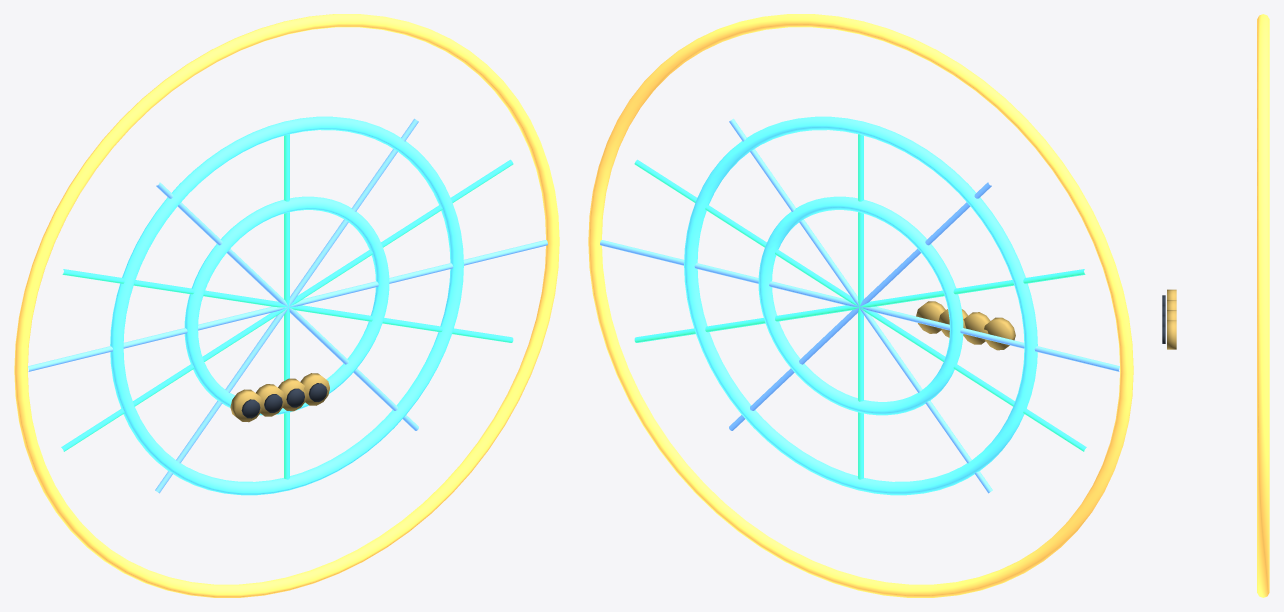
The model's file is 47_L87_RotorImbalanceVectorDisplay.glb.
3 views of the same model, side by side, from view 1: azimuth 30°, elevation 25°; view 2: azimuth 150°, elevation 25°; view 3: azimuth 270°, elevation 25° (orthographic). The views are drawn at different scales.
Visible parts, largest first — view 1: L87_RotorImbalanceVectorDispl_Part_0001, L87_RotorImbalanceVectorDispl_Part_0000, L87_RotorImbalanceVectorDispl_Part_0002, L87_RotorImbalanceVectorDispl_Part_0003; view 2: L87_RotorImbalanceVectorDispl_Part_0001, L87_RotorImbalanceVectorDispl_Part_0000, L87_RotorImbalanceVectorDispl_Part_0003, L87_RotorImbalanceVectorDispl_Part_0002; view 3: L87_RotorImbalanceVectorDispl_Part_0001, L87_RotorImbalanceVectorDispl_Part_0010.
Boxes of the visible parts, <box> form: L87_RotorImbalanceVectorDispl_Part_0001: <box>14,14,559,597</box>; L87_RotorImbalanceVectorDispl_Part_0000: <box>110,116,463,495</box>; L87_RotorImbalanceVectorDispl_Part_0002: <box>28,118,547,493</box>; L87_RotorImbalanceVectorDispl_Part_0003: <box>61,134,513,479</box>; L87_RotorImbalanceVectorDispl_Part_0001: <box>588,14,1133,597</box>; L87_RotorImbalanceVectorDispl_Part_0000: <box>684,116,1037,495</box>; L87_RotorImbalanceVectorDispl_Part_0003: <box>634,134,1086,479</box>; L87_RotorImbalanceVectorDispl_Part_0002: <box>600,118,1119,493</box>; L87_RotorImbalanceVectorDispl_Part_0001: <box>1257,14,1269,597</box>; L87_RotorImbalanceVectorDispl_Part_0010: <box>1167,320,1176,349</box>.
Size of the model in its own units: 2.56 by 2.56 by 0.4696.
